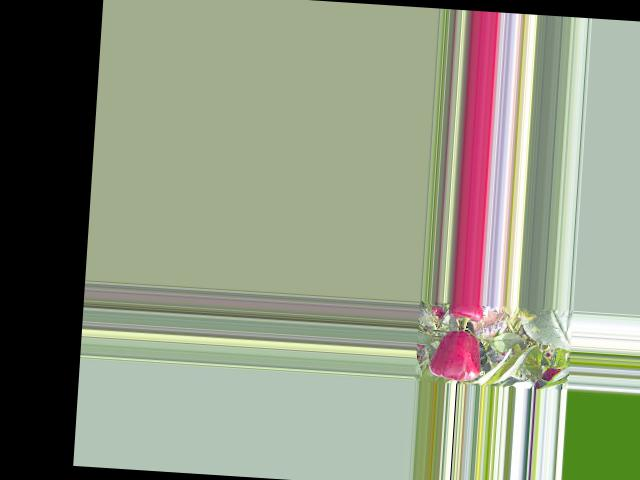bell_pepper: (446, 301, 487, 325)
